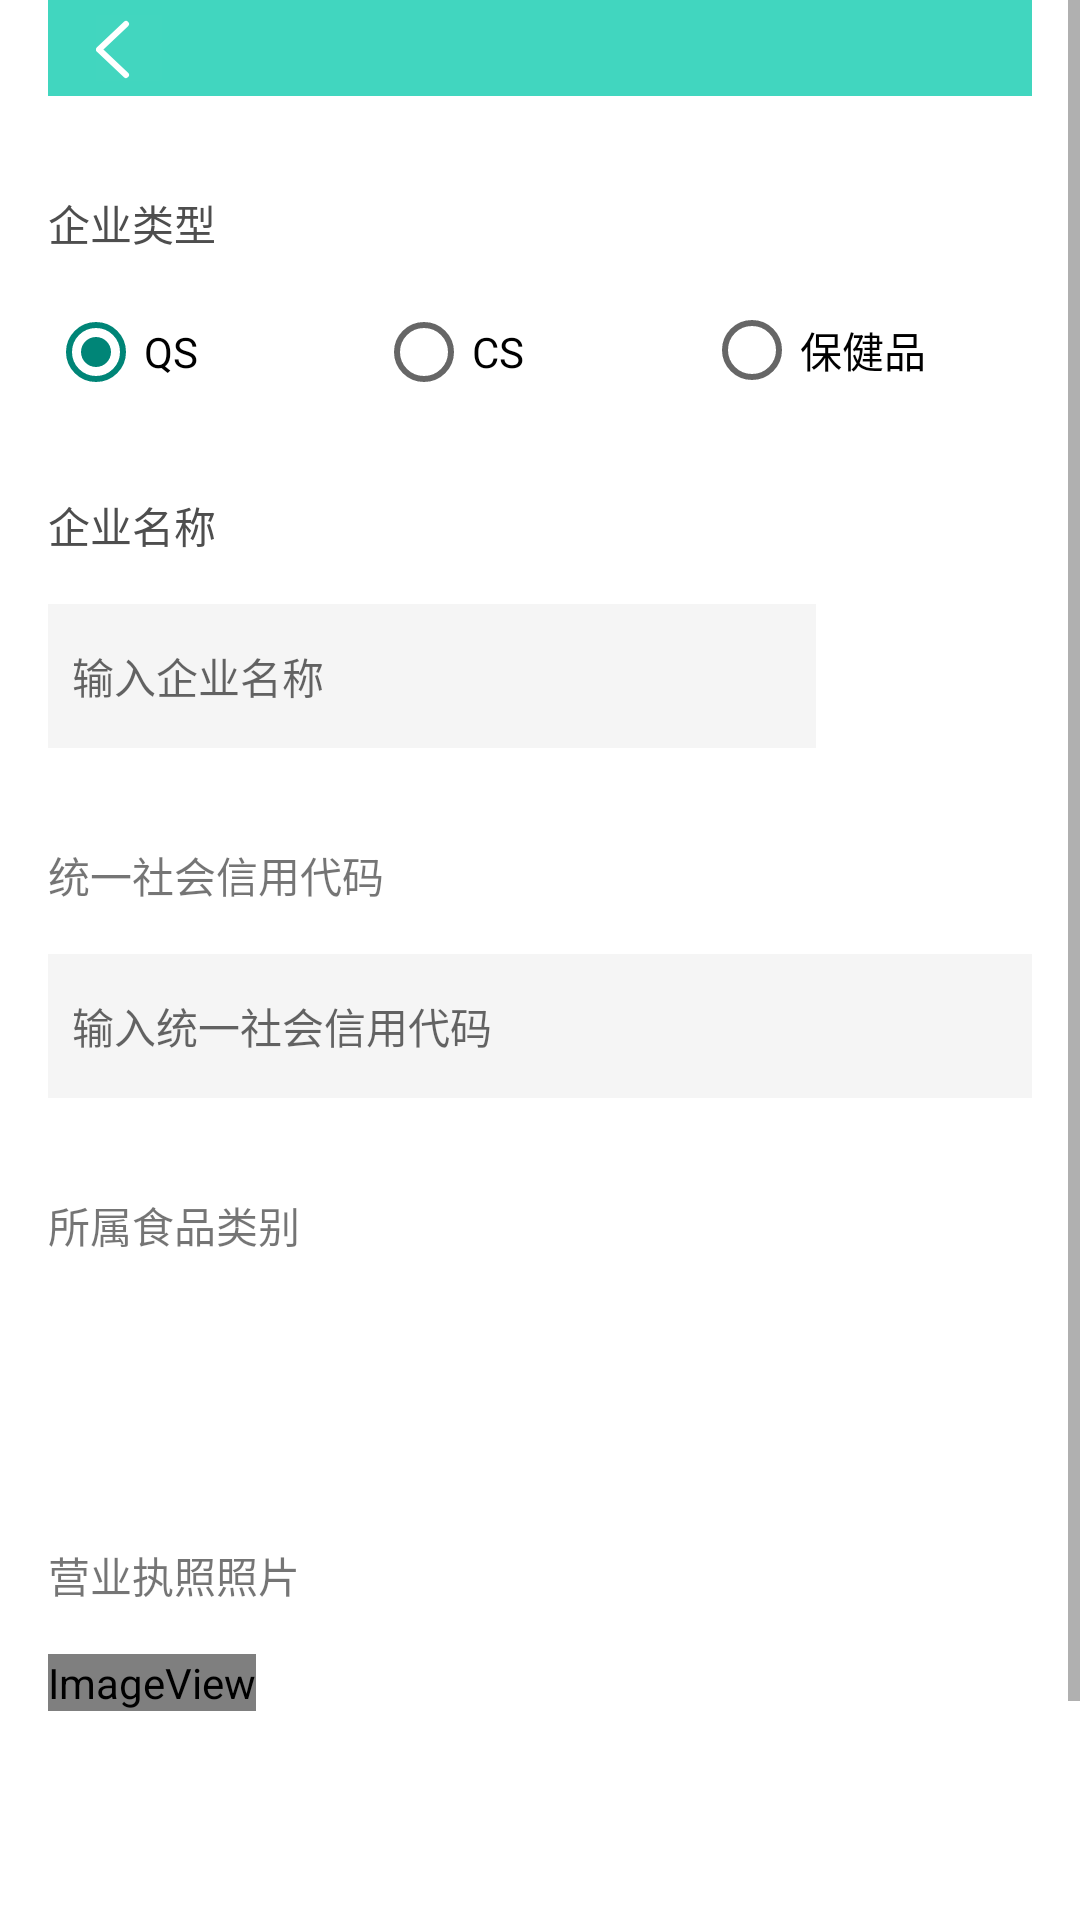

Icons on this 1080px x 1920px Android screen, each with the point to tap as [x,y]:
navigation back: [112,49]
